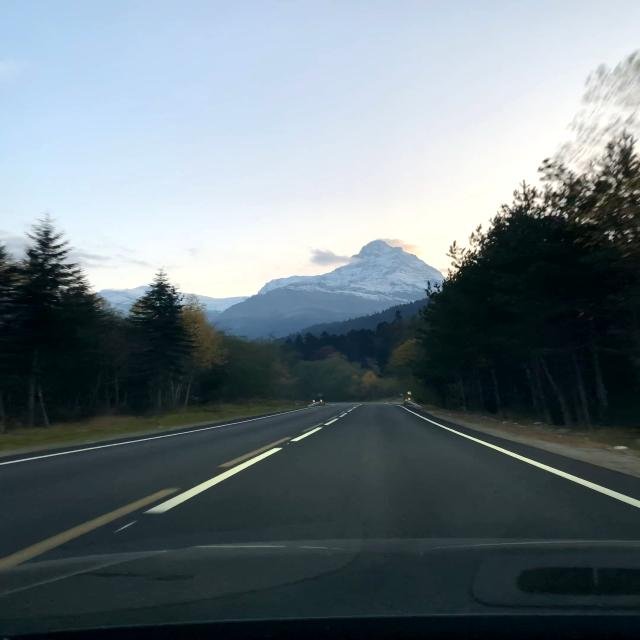lane: (404, 408, 639, 505), (148, 448, 280, 511), (293, 427, 321, 440)
road: (2, 403, 636, 639)
